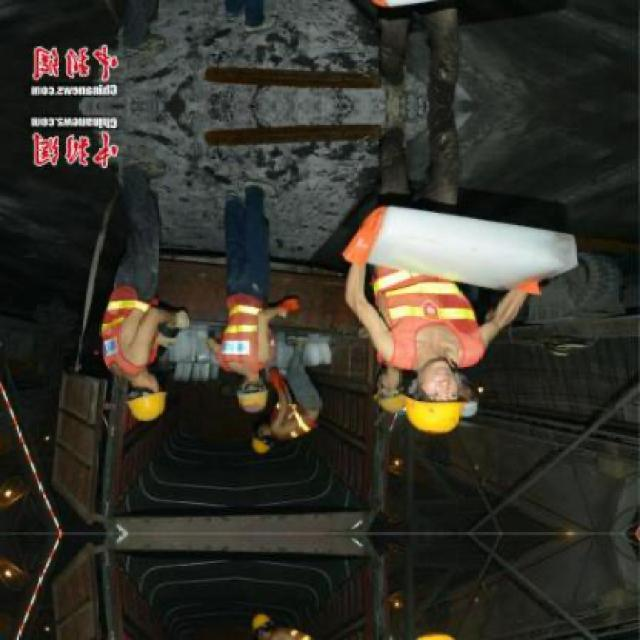con casco: (377, 362, 474, 437), (108, 361, 174, 433), (232, 366, 300, 432), (245, 425, 314, 470)
